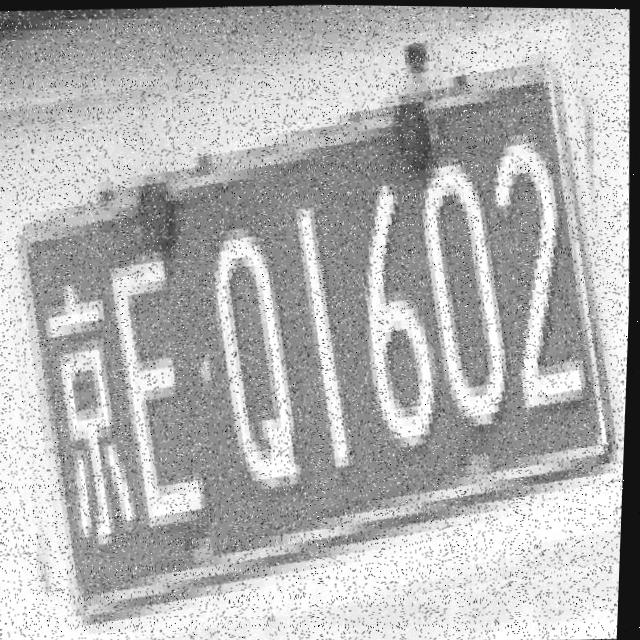LicensePlate: (0, 28, 639, 640)
